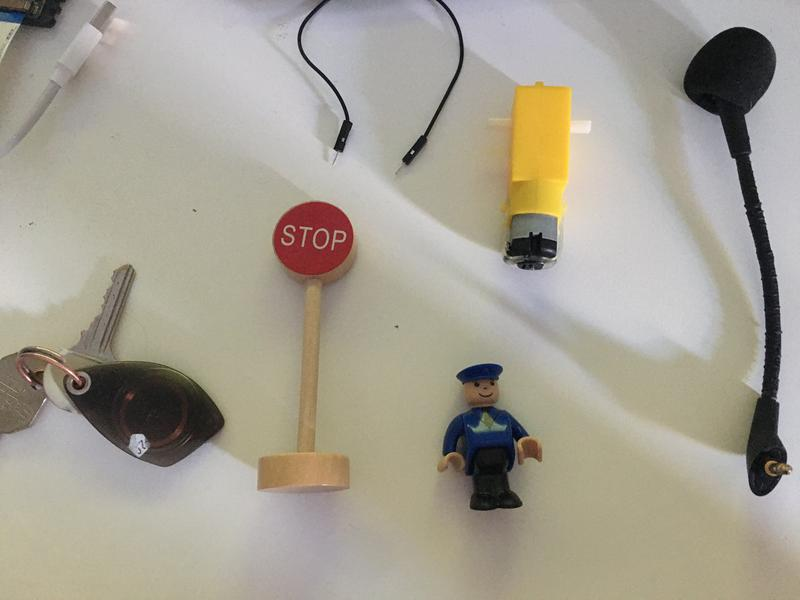Traffic_Sign_Stop: (274, 202, 354, 278)
person: (436, 361, 545, 516)
